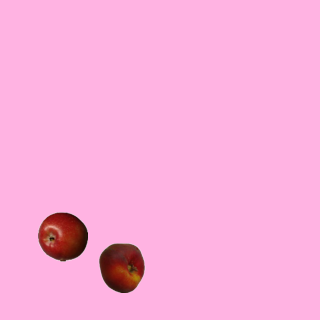Apple Braeburn: (37, 211, 87, 261)
Nectarine Flat: (96, 242, 146, 292)
